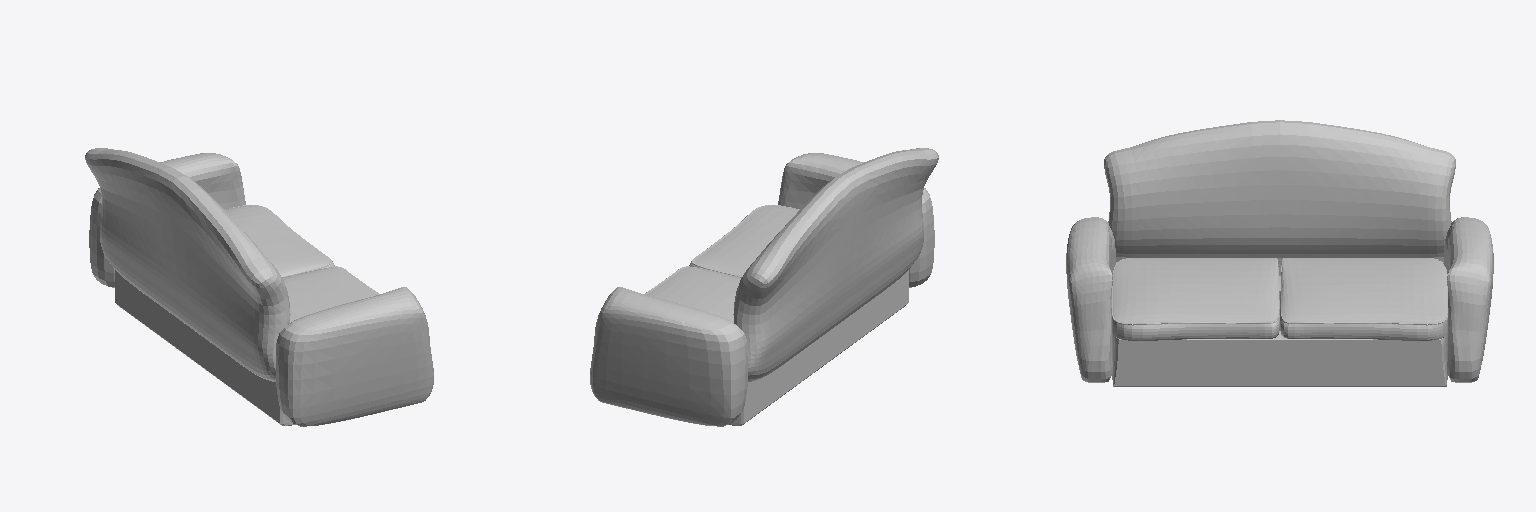
The model's file is simple_sofa1.obj.
The picture shows the model from 3 angles: view 1: azimuth 30°, elevation 25°; view 2: azimuth 150°, elevation 25°; view 3: azimuth 270°, elevation 25°; orthographic projection.
Visible parts, largest first — view 1: sofa_Cube_Material.004; view 2: sofa_Cube_Material.004; view 3: sofa_Cube_Material.004.
Boxes of the visible parts, x1,y1,x2,y2 form: sofa_Cube_Material.004: [85, 148, 433, 426]; sofa_Cube_Material.004: [590, 148, 938, 426]; sofa_Cube_Material.004: [1066, 120, 1493, 386].
Bounding box in the file's own units: 7.9 × 8.4 × 16.66.